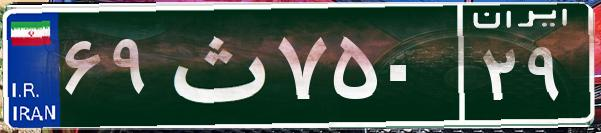0: (385, 28, 445, 110)
2: (475, 38, 525, 113)
5: (330, 28, 385, 110)
6: (57, 26, 110, 107)
7: (273, 28, 330, 110)
9: (110, 28, 158, 105), (525, 38, 570, 115)
ث: (158, 15, 273, 115)
